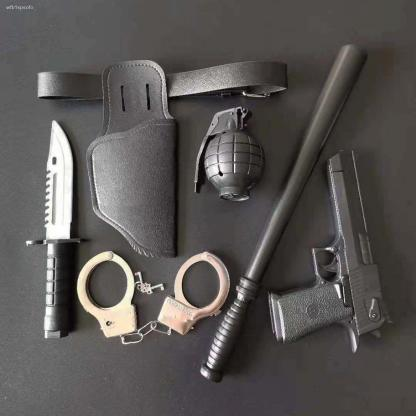Grenade: (193, 106, 265, 202)
Knife: (25, 118, 90, 339)
Pistol: (267, 147, 395, 353)
